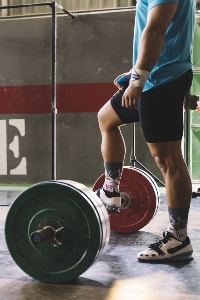barbell: (3, 178, 110, 285)
